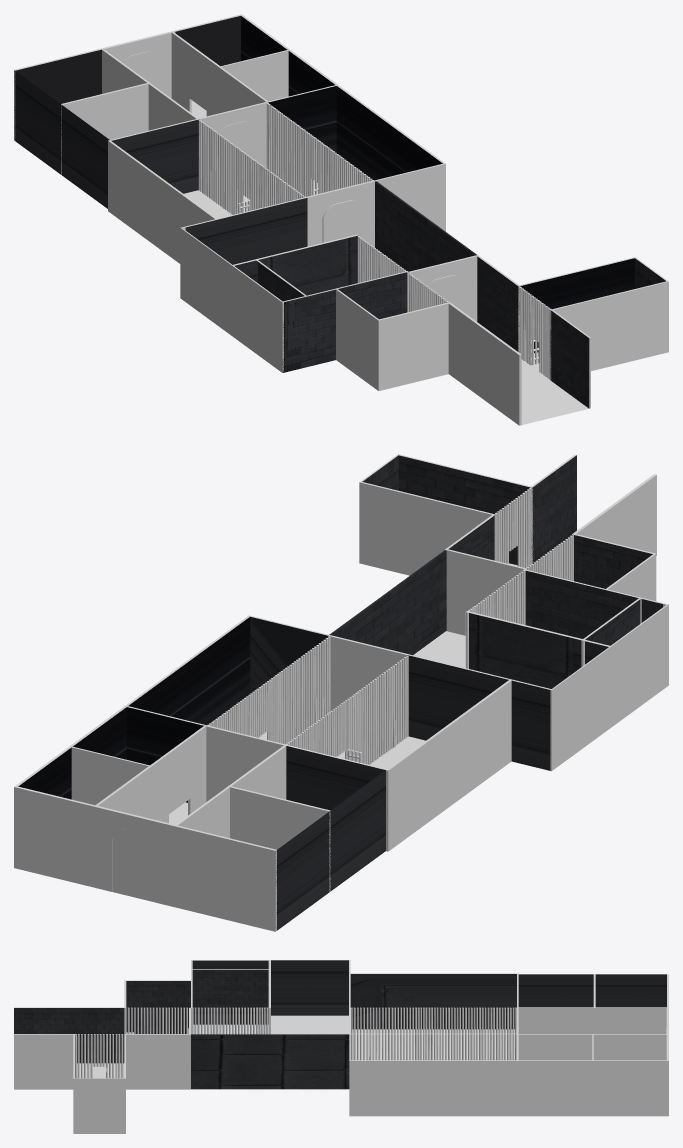
File: escenario.fbx
The picture shows the model from 3 angles, top to bottom: view 1: azimuth 30°, elevation 25°; view 2: azimuth 150°, elevation 25°; view 3: azimuth 270°, elevation 25°; orthographic projection. The views are drawn at different scales.
Parts seen in each view (by area): view 1: paredes, barra carcel 4, barra carcel 5, puerta sala, barra carcel 1, barra carcel 3, barra carcel 2; view 2: paredes, barra carcel 4, barra carcel 5, puerta sala, barra carcel 1, barra carcel 3, barra carcel 2; view 3: paredes, barra carcel 5, barra carcel 4, barra carcel 3, barra carcel 1, barra carcel 2.
Part boxes in pixels (x1,y1,x2,y2): paredes: (14,14,668,425); barra carcel 4: (198,119,305,214); barra carcel 5: (266,103,373,196); puerta sala: (123,51,463,311); barra carcel 1: (519,287,551,379); barra carcel 3: (357,236,406,282); barra carcel 2: (407,272,448,312); paredes: (14,454,668,931); barra carcel 4: (285,655,408,764); barra carcel 5: (207,636,330,744); puerta sala: (112,828,155,902); barra carcel 1: (495,488,531,568); barra carcel 3: (466,570,525,668); barra carcel 2: (525,534,573,580); paredes: (14,960,668,1133); barra carcel 5: (351,1033,516,1060); barra carcel 4: (351,1007,516,1059); barra carcel 3: (192,1007,268,1034); barra carcel 1: (75,1034,123,1078); barra carcel 2: (125,1007,190,1033).
Size of the model in its own units: 923 by 201 by 2152.
